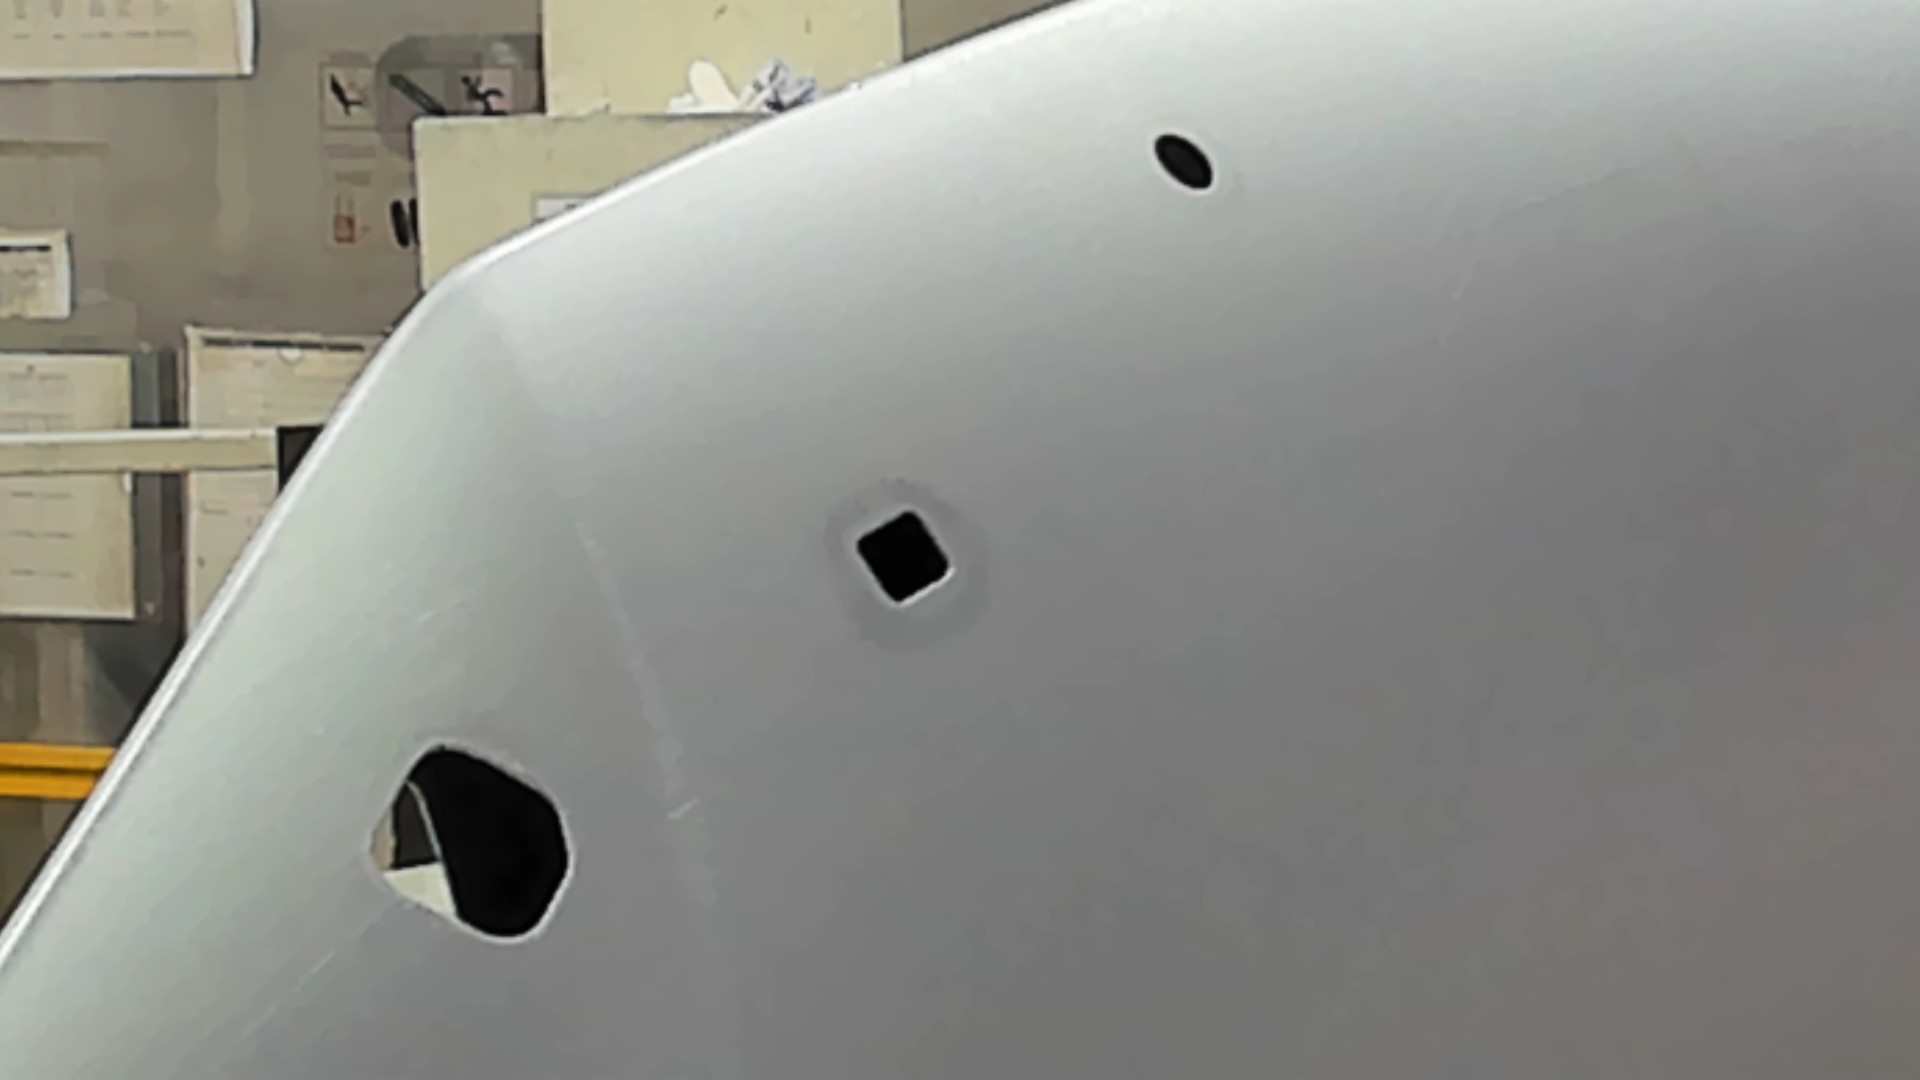chico: (1151, 132, 1218, 193)
grande: (364, 741, 576, 947)
mediano: (851, 506, 953, 608)
